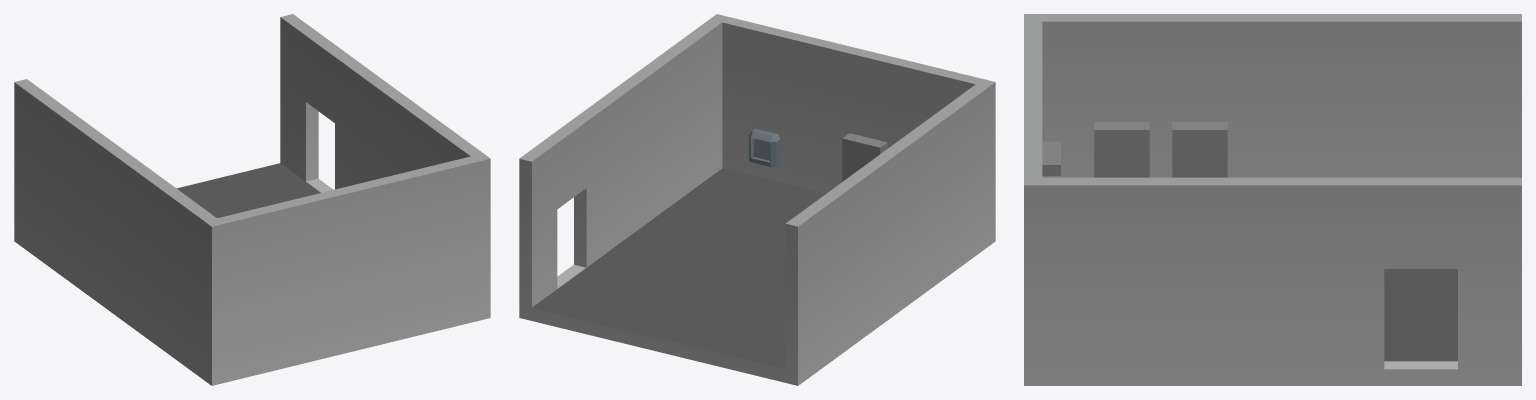
Rendered from armory.fbx.
The picture shows the model from 3 angles, left to right: view 1: azimuth 30°, elevation 25°; view 2: azimuth 150°, elevation 25°; view 3: azimuth 270°, elevation 25°; orthographic projection. The views are drawn at different scales.
Visible parts, largest first — view 1: Armory; view 2: Armory; view 3: Armory.
Part boxes in pixels (left/top/right/bottom): Armory: left=14, top=14, right=490, bottom=385; Armory: left=519, top=14, right=995, bottom=385; Armory: left=1024, top=14, right=1521, bottom=385.
Size of the model in its own units: 13.5 by 11 by 6.
